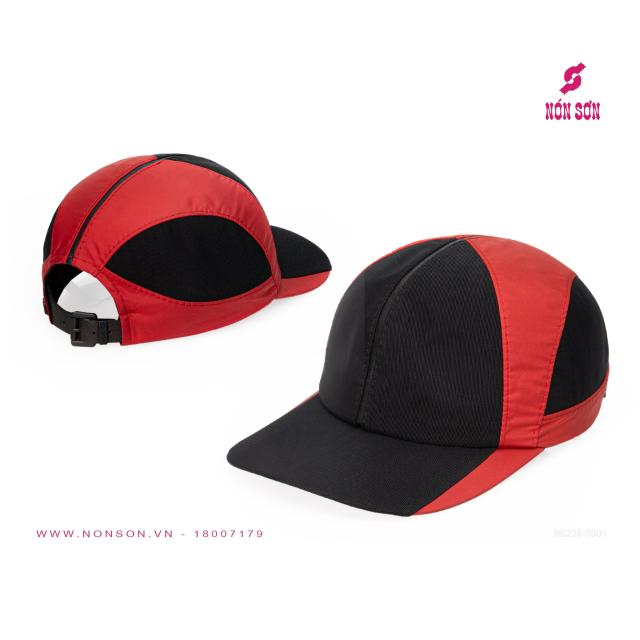Cap: (221, 229, 616, 523), (33, 146, 340, 352)
